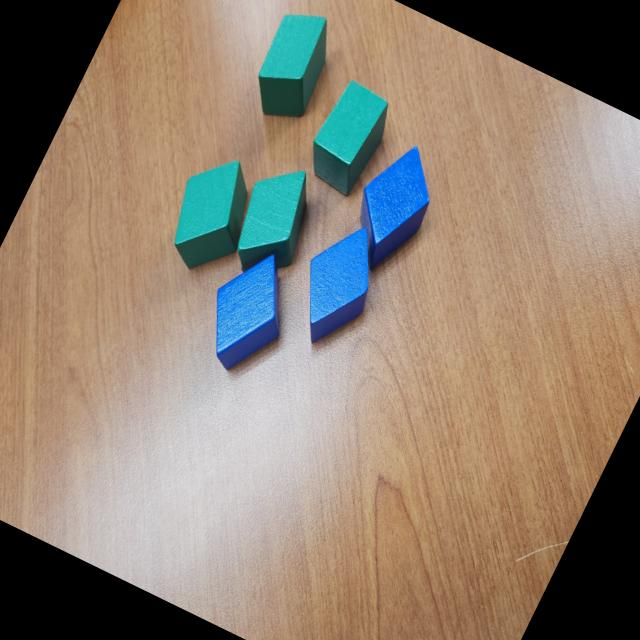blue: (187, 236, 310, 384), (333, 133, 450, 280), (278, 212, 396, 357)
green: (154, 144, 272, 282), (218, 155, 330, 290), (240, 0, 346, 130), (298, 78, 400, 200)
